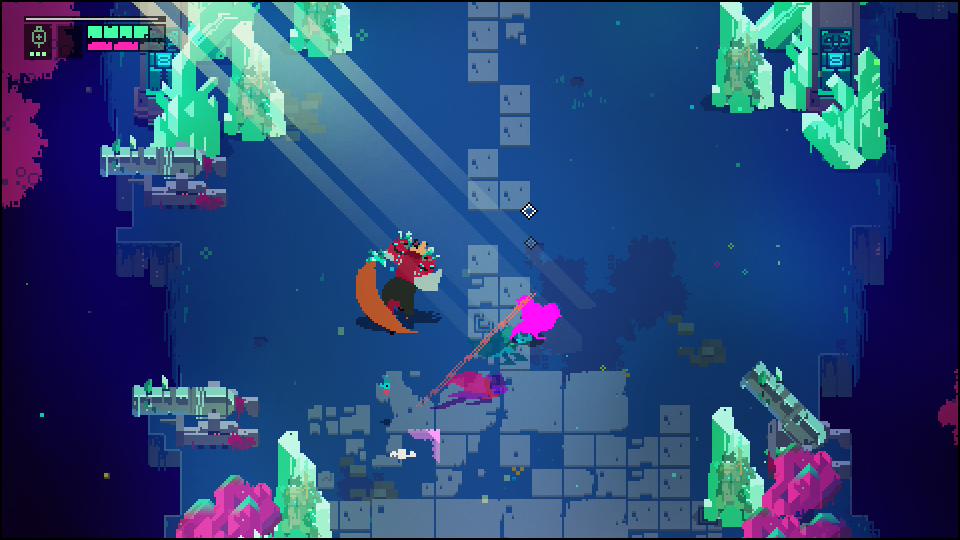hanged_man: (354, 227, 441, 341)
player: (512, 286, 561, 346)
